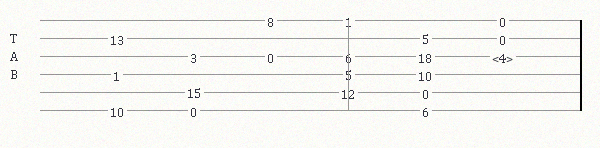0: (190, 104, 201, 117), (267, 50, 278, 63), (422, 86, 433, 99), (499, 32, 510, 45), (499, 14, 510, 27)
1: (113, 68, 124, 81), (345, 14, 356, 27)
10: (110, 104, 128, 117), (418, 68, 436, 81)
12: (341, 86, 359, 99)
13: (110, 32, 128, 45)
15: (187, 85, 205, 99)
18: (418, 50, 436, 63)
3: (190, 50, 201, 63)
5: (345, 67, 356, 81), (422, 31, 433, 45)
6: (345, 50, 356, 63), (422, 104, 433, 117)
8: (267, 14, 278, 27)
harmonic: (492, 50, 517, 63)
